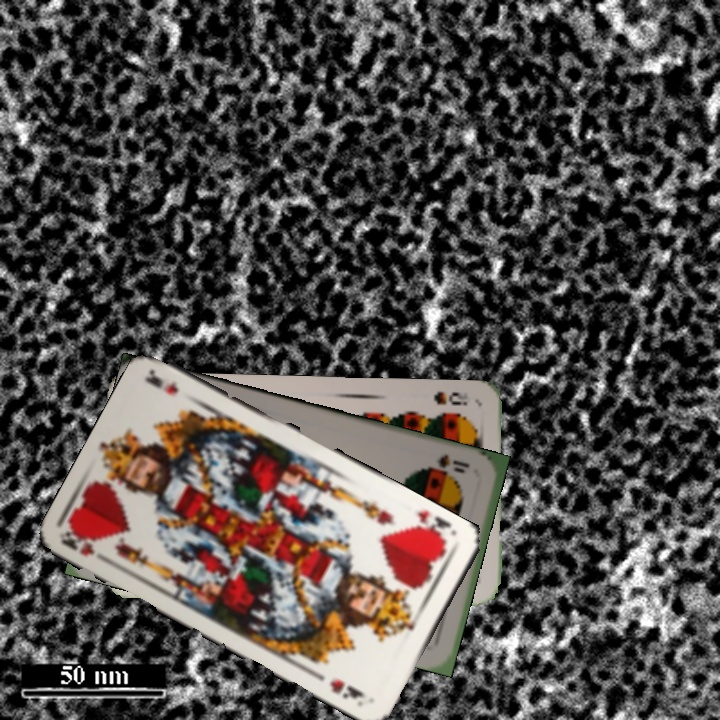HK: (59, 524, 116, 569), (407, 506, 454, 547)
S8: (430, 387, 470, 408)
SO: (424, 450, 472, 476)
